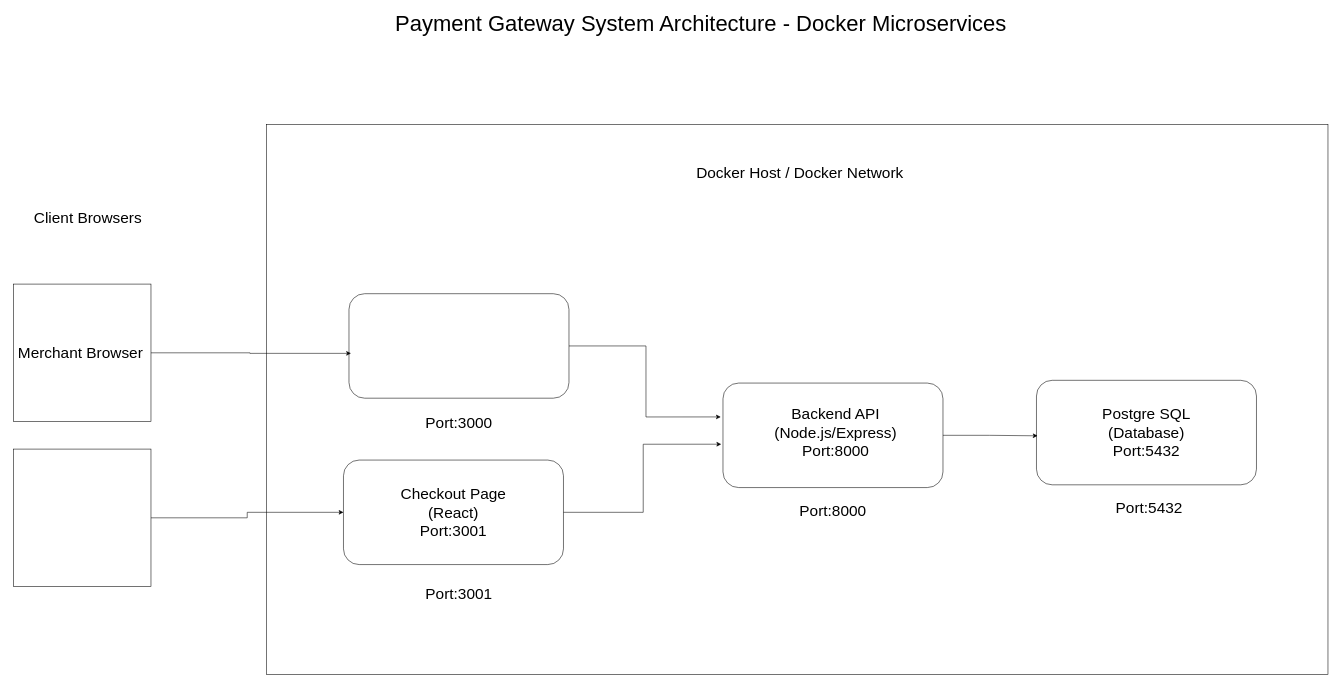
This 1338x684 diagram has some shape labels left out. Here are the shapes that lost their labels. From the top down, the centre of each, then its label:
point 458,345: Dashboard Frontend (React) Port:3000
point 82,518: Customer Browser
